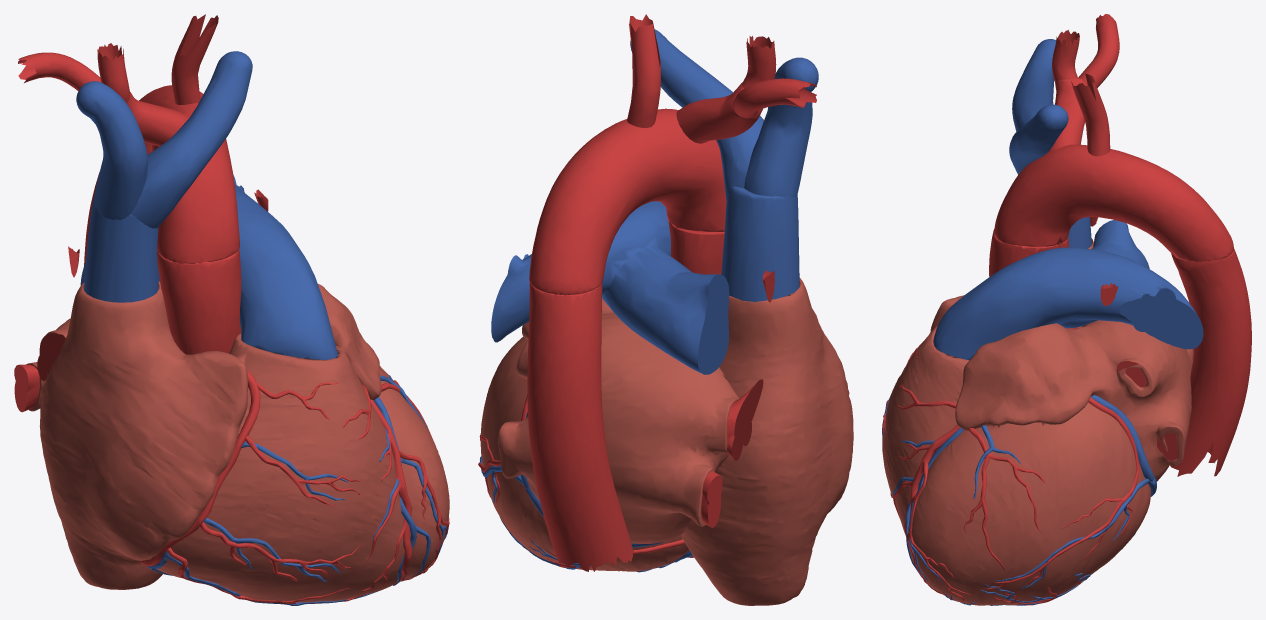
Rendered from heart.mo.glb.
The picture shows the model from 3 angles, left to right: view 1: azimuth 30°, elevation 25°; view 2: azimuth 150°, elevation 25°; view 3: azimuth 270°, elevation 25°; orthographic projection. The views are drawn at different scales.
Parts seen in each view (by area): view 1: Heart_wall, Aorta_and_arch_branches, Venae_cavae, Pulmonary_arteries, Coronary_arteries, Cardiac_veins, Pulmonary_veins; view 2: Heart_wall, Aorta_and_arch_branches, Venae_cavae, Pulmonary_arteries, Pulmonary_veins, Cardiac_veins, Coronary_arteries; view 3: Heart_wall, Aorta_and_arch_branches, Pulmonary_arteries, Coronary_arteries, Venae_cavae, Cardiac_veins, Pulmonary_veins.
Boxes of the visible parts, x1,y1,x2,y2 form: Heart_wall: (26, 281, 449, 602); Aorta_and_arch_branches: (18, 14, 241, 354); Venae_cavae: (76, 51, 252, 302); Pulmonary_arteries: (80, 175, 337, 359); Coronary_arteries: (140, 370, 449, 604); Cardiac_veins: (147, 375, 446, 605); Pulmonary_veins: (14, 189, 268, 412); Heart_wall: (480, 278, 853, 605); Aorta_and_arch_branches: (527, 14, 816, 571); Venae_cavae: (630, 29, 818, 302); Pulmonary_arteries: (491, 201, 729, 374); Pulmonary_veins: (701, 270, 774, 527); Cardiac_veins: (480, 412, 693, 572); Coronary_arteries: (478, 395, 693, 567); Heart_wall: (882, 238, 1193, 605); Aorta_and_arch_branches: (989, 14, 1251, 476); Pulmonary_arteries: (933, 220, 1203, 360); Coronary_arteries: (882, 343, 1139, 605); Venae_cavae: (1009, 39, 1091, 248); Cardiac_veins: (882, 394, 1156, 605); Pulmonary_veins: (1090, 216, 1193, 460).
Size of the model in its own units: 1.29 by 1.96 by 1.37.
